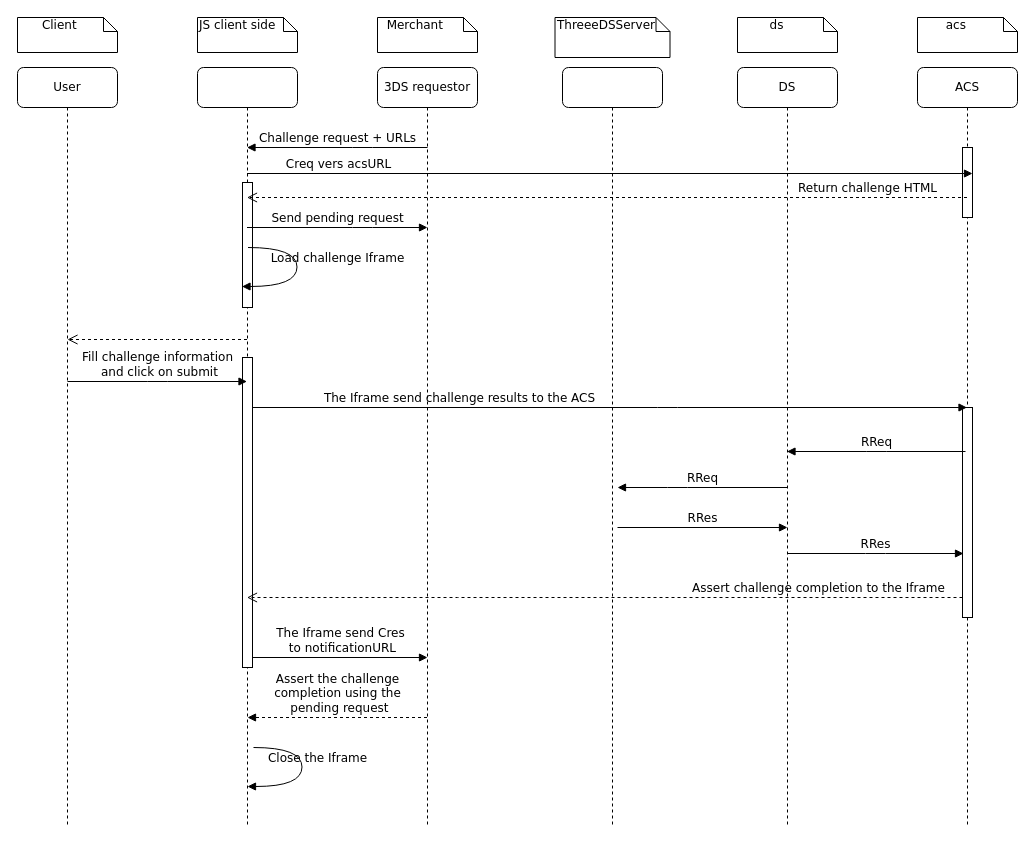
This 1035x845 diagram has some shape labels left out. The box of each missing label's shape, as (x1, y1, x2, y2) in pixels:
3DS Server: (562, 66, 662, 828)
Browser: (196, 66, 298, 828)
